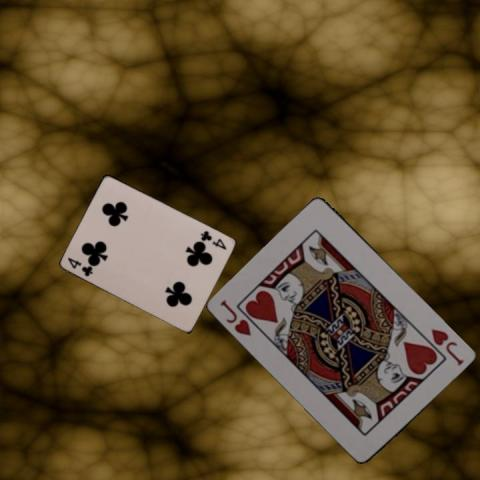4c: (198, 227, 229, 251), (64, 254, 94, 278)
Jh: (428, 326, 466, 368), (218, 297, 253, 338)
